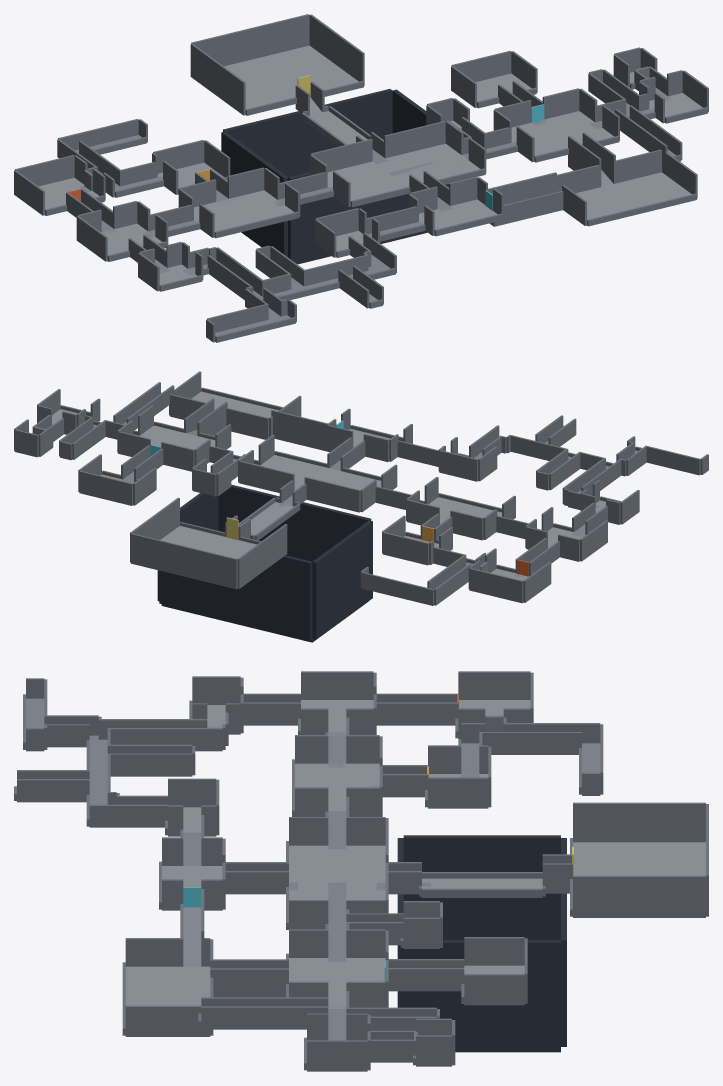
The model's file is rubezh_f1.glb.
3 renders of one model, top to bottom at view 1: azimuth 30°, elevation 25°; view 2: azimuth 150°, elevation 25°; view 3: azimuth 270°, elevation 25°, orthographic. The views are drawn at different scales.
Parts seen in each view (by area): view 1: Walls-col, Floor-col, Chasm0-col, CorridorFloor-col; view 2: Walls-col, Chasm0-col, Floor-col, CorridorFloor-col; view 3: Walls-col, Floor-col, Chasm0-col, CorridorFloor-col.
Part boxes in pixels (<box>): Walls-col: <box>14,14,708,342</box>; Floor-col: <box>38,45,702,284</box>; Chasm0-col: <box>221,89,448,264</box>; CorridorFloor-col: <box>75,87,675,336</box>; Walls-col: <box>14,371,708,605</box>; Chasm0-col: <box>157,484,372,642</box>; Floor-col: <box>52,391,605,580</box>; CorridorFloor-col: <box>93,422,637,576</box>; Walls-col: <box>14,671,708,1071</box>; Floor-col: <box>125,700,705,1008</box>; Chasm0-col: <box>397,835,566,1052</box>; CorridorFloor-col: <box>26,698,600,1040</box>.
Size of the model in its own units: 146 by 29.5 by 115.
